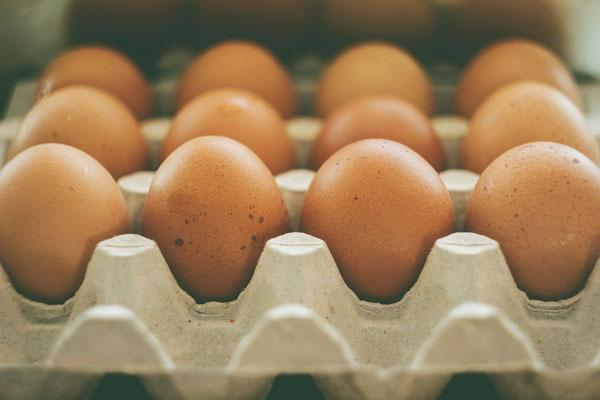egg: (298, 135, 456, 306), (140, 130, 295, 304), (1, 139, 133, 313), (464, 140, 600, 307), (9, 89, 152, 192), (463, 82, 600, 179), (313, 98, 448, 191), (161, 94, 300, 182), (310, 45, 442, 123), (458, 43, 592, 119), (171, 41, 300, 118), (38, 45, 150, 123)
